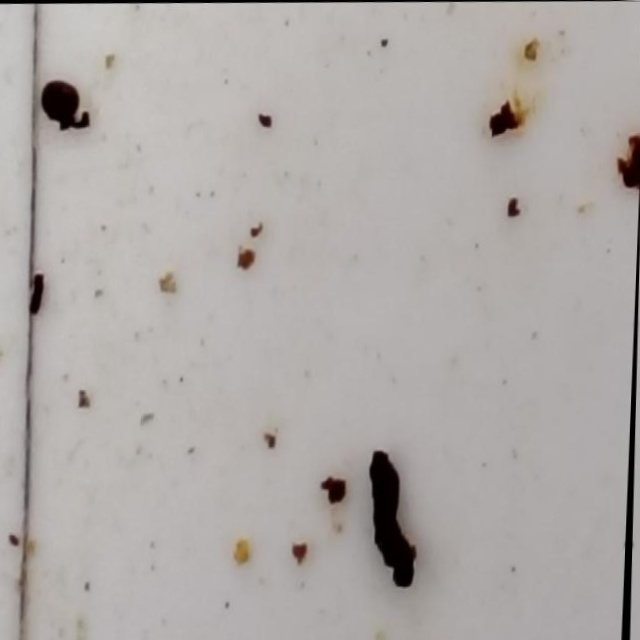varroa: (35, 67, 80, 123)
